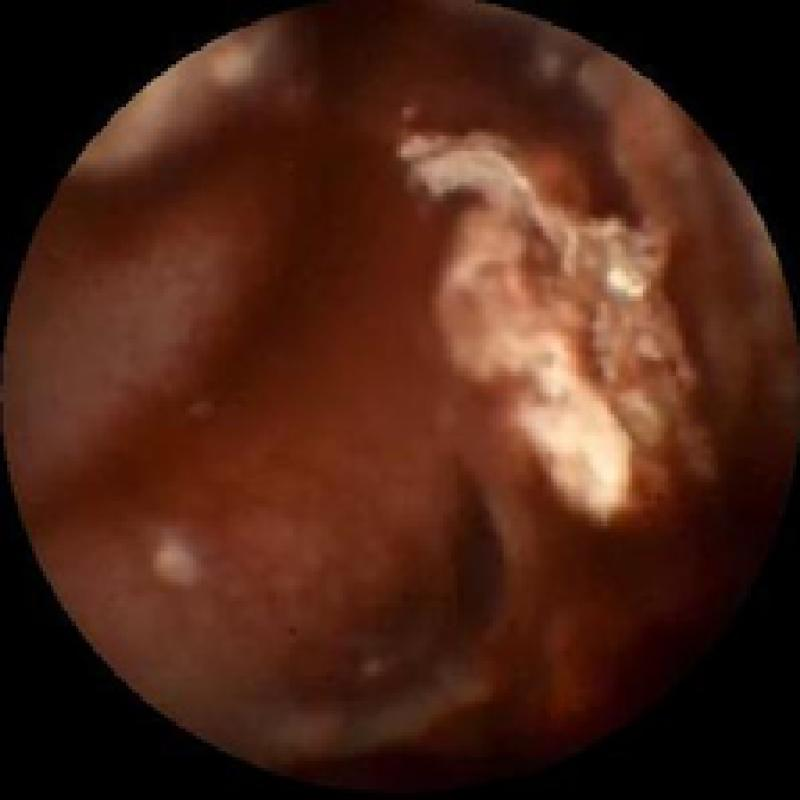bleeding: (146, 50, 668, 736)
